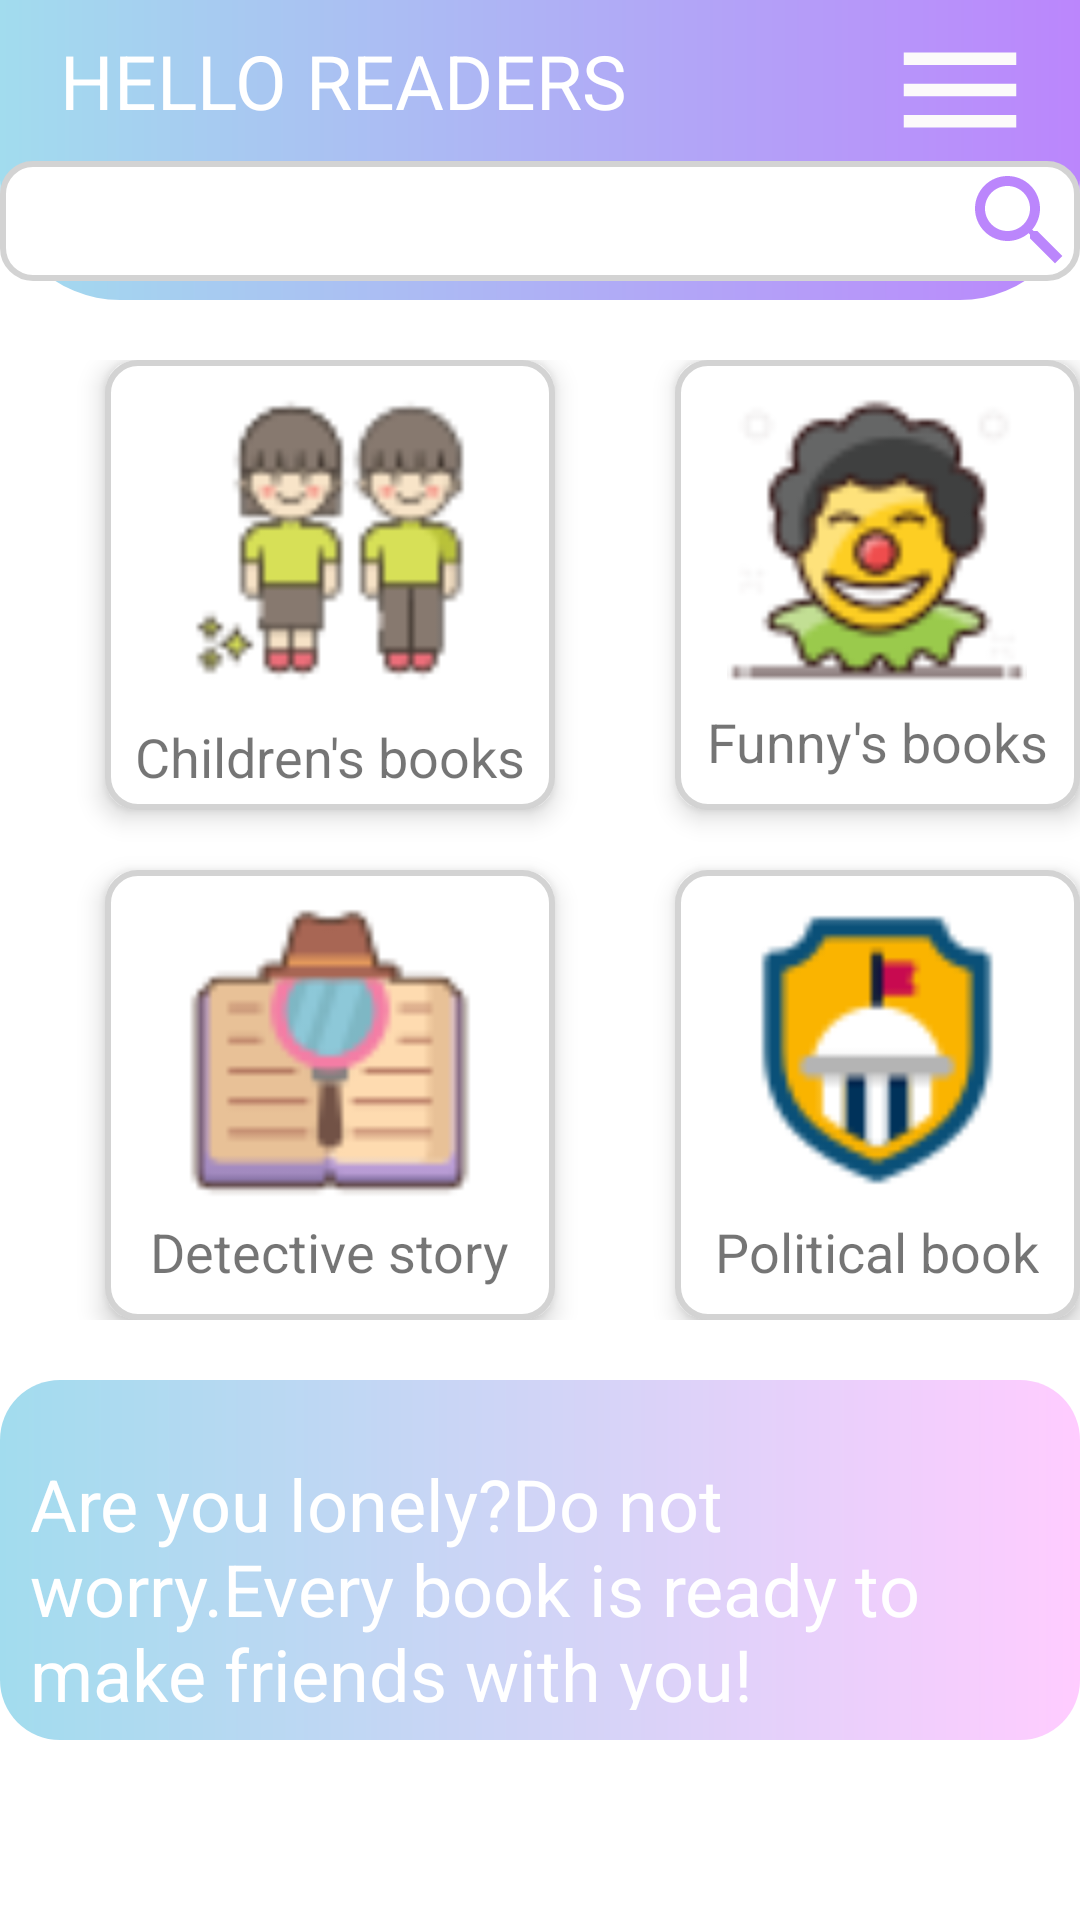

Named icons in this screenshot (1080 x 1920) and their bounding boxes, (left=x1, top=y1, right=x2, bottom=y2):
menu: (left=903, top=52, right=1017, bottom=128)
